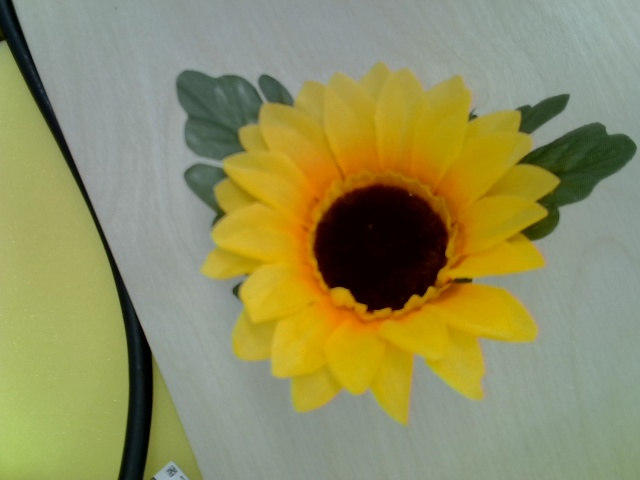해바라기: (202, 63, 558, 423)
